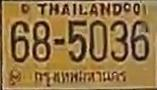0: (89, 19, 107, 61)
3: (110, 19, 127, 61)
5: (67, 19, 86, 61)
6: (10, 20, 28, 62), (130, 19, 148, 60)
8: (32, 20, 50, 61)
BKK: (32, 68, 128, 87)
